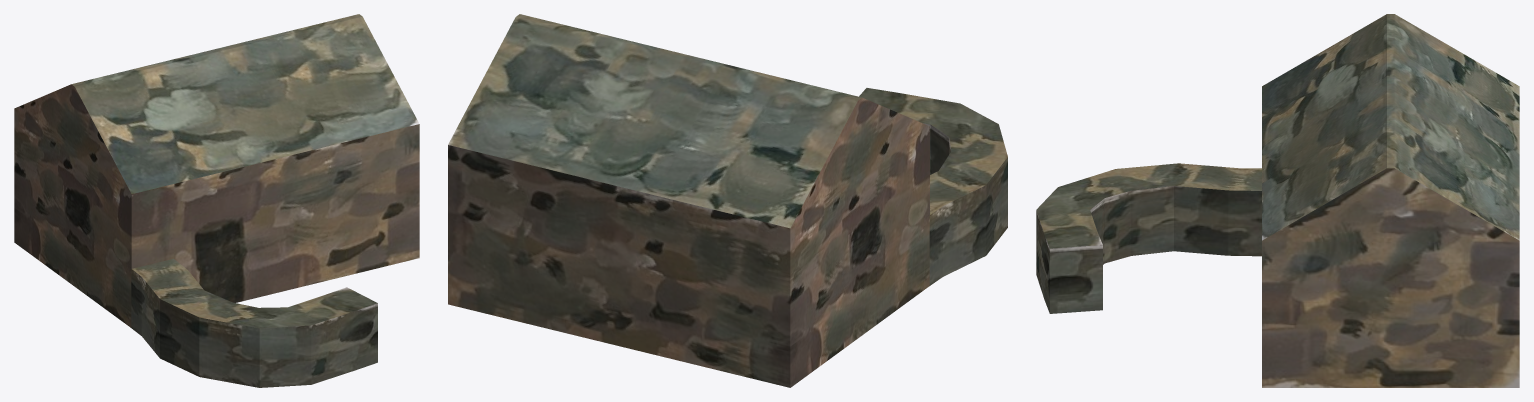
File: BURON.glb
3 renders of one model, left to right at view 1: azimuth 30°, elevation 25°; view 2: azimuth 150°, elevation 25°; view 3: azimuth 270°, elevation 25°, orthographic. The views are drawn at different scales.
Parts seen in each view (by area): view 1: Cube.009, Cube.011; view 2: Cube.009, Cube.011; view 3: Cube.009, Cube.011.
Boxes of the visible parts, left/top/right/bottom form: Cube.009: left=14, top=14, right=419, bottom=327; Cube.011: left=131, top=258, right=377, bottom=387; Cube.009: left=448, top=14, right=929, bottom=387; Cube.011: left=859, top=88, right=1007, bottom=285; Cube.009: left=1262, top=14, right=1519, bottom=387; Cube.011: left=1036, top=163, right=1261, bottom=313.
Size of the model in its own units: 6.55 by 4.21 by 8.38.
Materials: 1 (1 with a texture image).
